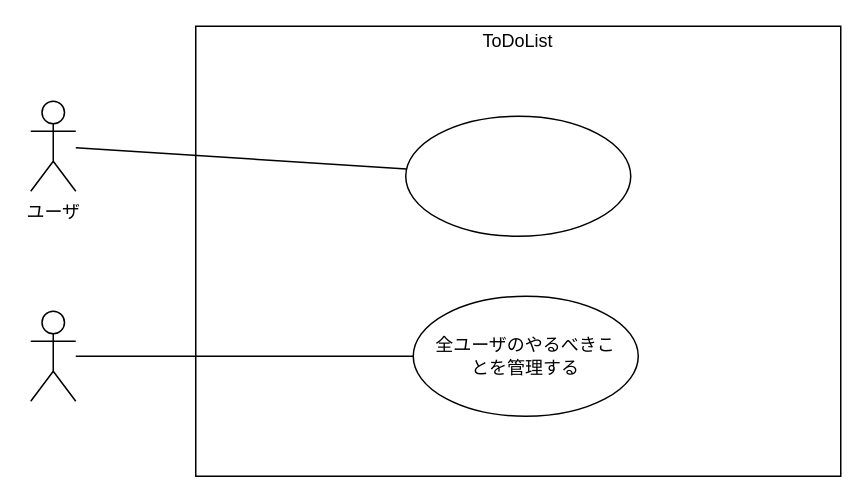
The diagram is 867 pixels wide and 503 high, and some of its shapes have lost their labels. The box of each missing label's shape, as (x1, y1, x2, y2) in pixels:
やるべきことを管理する: (404, 115, 631, 236)
管理者: (29, 310, 76, 401)
